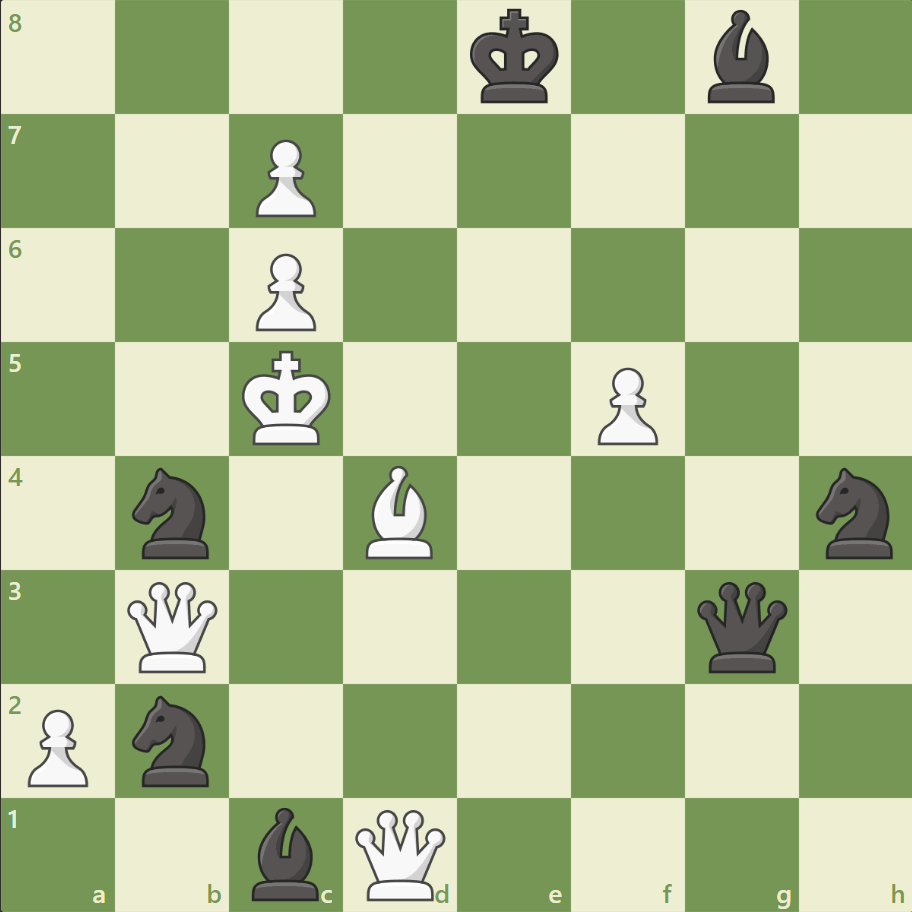B: (358, 460, 442, 563)
K: (238, 344, 338, 452)
P: (247, 132, 322, 223), (247, 246, 322, 337), (20, 700, 95, 791), (588, 359, 662, 450)
Q: (124, 576, 223, 676), (351, 804, 450, 903)
b: (698, 6, 782, 109), (244, 801, 328, 904)
k: (465, 4, 565, 112)
n: (124, 461, 222, 564), (124, 688, 222, 791), (806, 461, 903, 564)
q: (691, 576, 790, 676)
